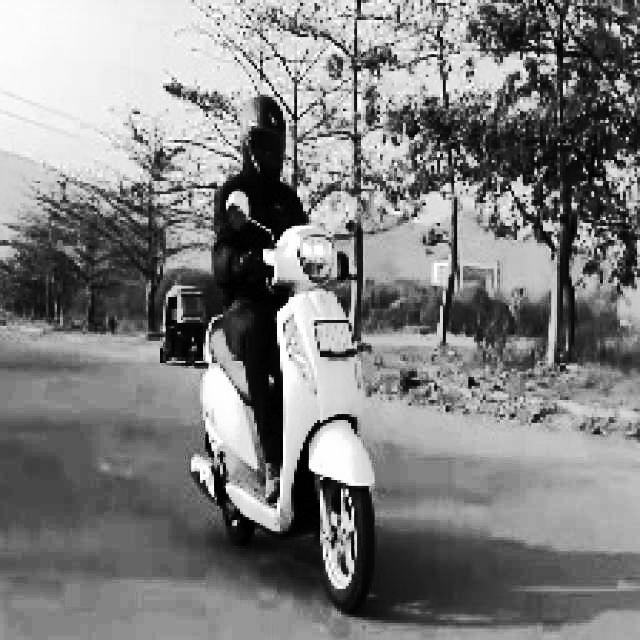Bike: (185, 246, 385, 598)
